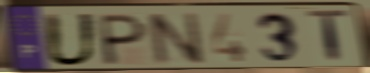3: (255, 10, 305, 66)
4: (211, 12, 249, 65)
N: (144, 11, 207, 68)
P: (100, 12, 149, 68)
T: (305, 8, 351, 67)
U: (41, 12, 99, 69)
